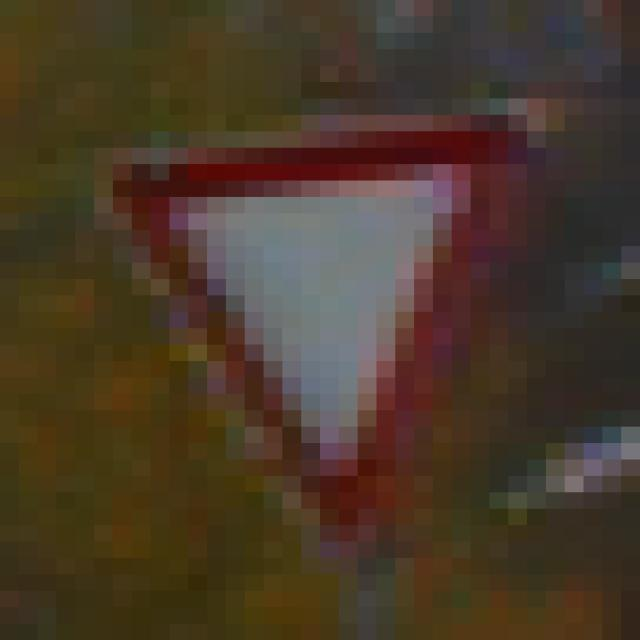Give Way: (95, 99, 547, 559)
